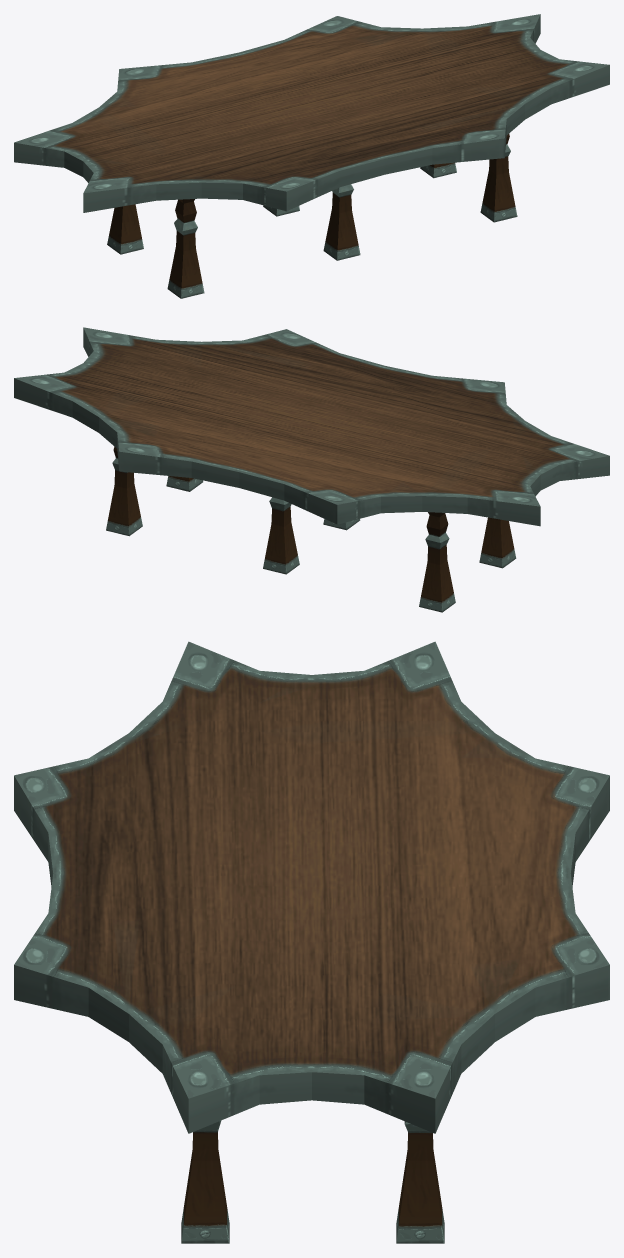
File: tavolo2.fbx
The picture shows the model from 3 angles, top to bottom: view 1: azimuth 30°, elevation 25°; view 2: azimuth 150°, elevation 25°; view 3: azimuth 270°, elevation 25°; orthographic projection. The views are drawn at different scales.
Parts seen in each view (by area): view 1: Circle.001; view 2: Circle.001; view 3: Circle.001.
Part boxes in pixels (bbox=[...]): Circle.001: bbox=[14, 14, 609, 298]; Circle.001: bbox=[14, 327, 609, 612]; Circle.001: bbox=[14, 641, 609, 1243].
Size of the model in its own units: 403 by 93.11 by 222.
